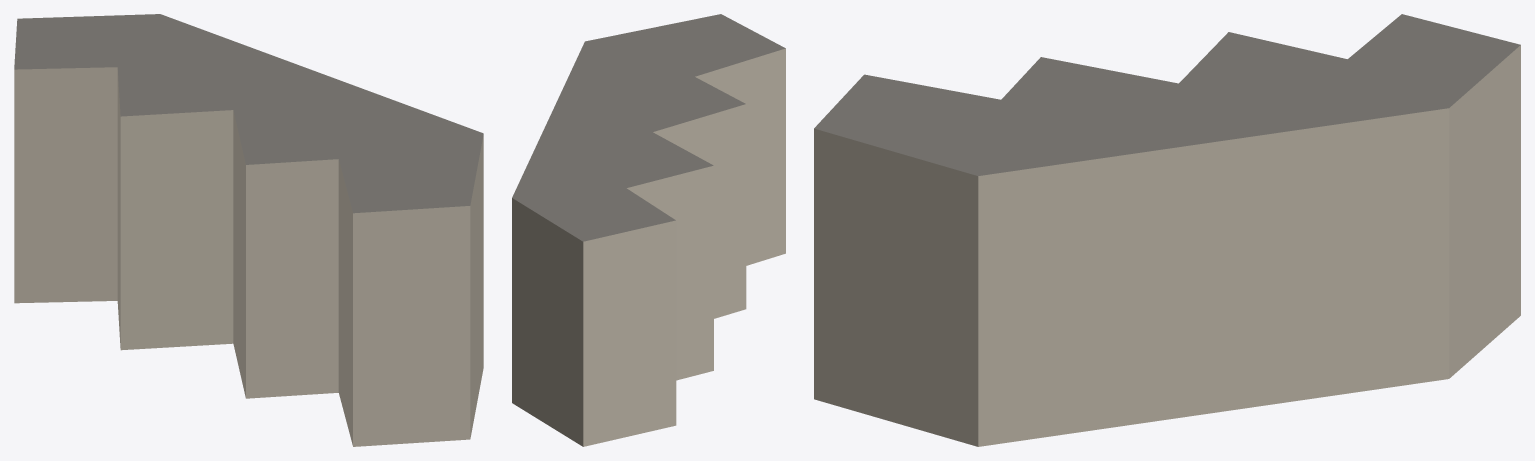
The picture shows the model from 3 angles, left to right: view 1: azimuth 30°, elevation 25°; view 2: azimuth 150°, elevation 25°; view 3: azimuth 270°, elevation 25°; orthographic projection. The views are drawn at different scales.
Parts seen in each view (by area): view 1: HP-w1159135725; view 2: HP-w1159135725; view 3: HP-w1159135725.
Part boxes in pixels (x1,y1,x2,y2): HP-w1159135725: (14,14,483,446); HP-w1159135725: (512,14,785,446); HP-w1159135725: (814,14,1520,446).
Size of the model in its own units: 23.12 by 18 by 42.59.
